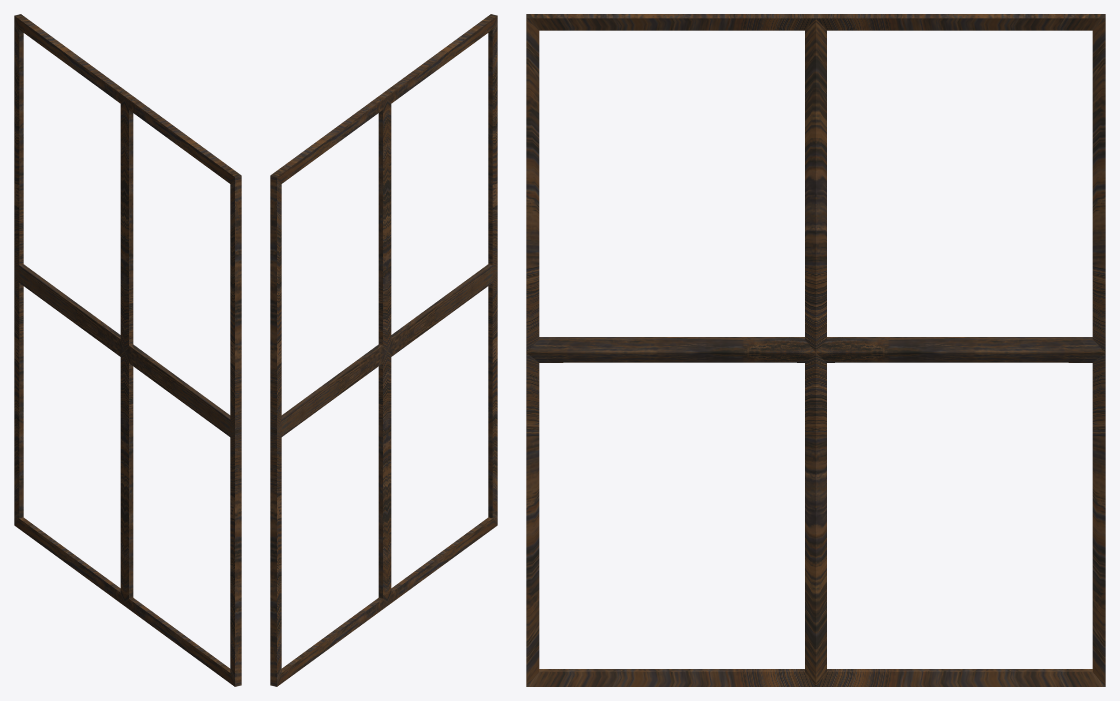
File: windowframe.obj
3 renders of one model, left to right at view 1: azimuth 30°, elevation 25°; view 2: azimuth 150°, elevation 25°; view 3: azimuth 270°, elevation 25°, orthographic. The views are drawn at different scales.
Visible parts, largest first — view 1: Plane.001; view 2: Plane.001; view 3: Plane.001.
Boxes of the visible parts, bbox=[...] form: Plane.001: bbox=[14, 14, 241, 686]; Plane.001: bbox=[270, 14, 497, 686]; Plane.001: bbox=[526, 14, 1105, 686].
Size of the model in its own units: 0.097 by 7.05 by 5.53.
Materials: 1 (1 with a texture image).
